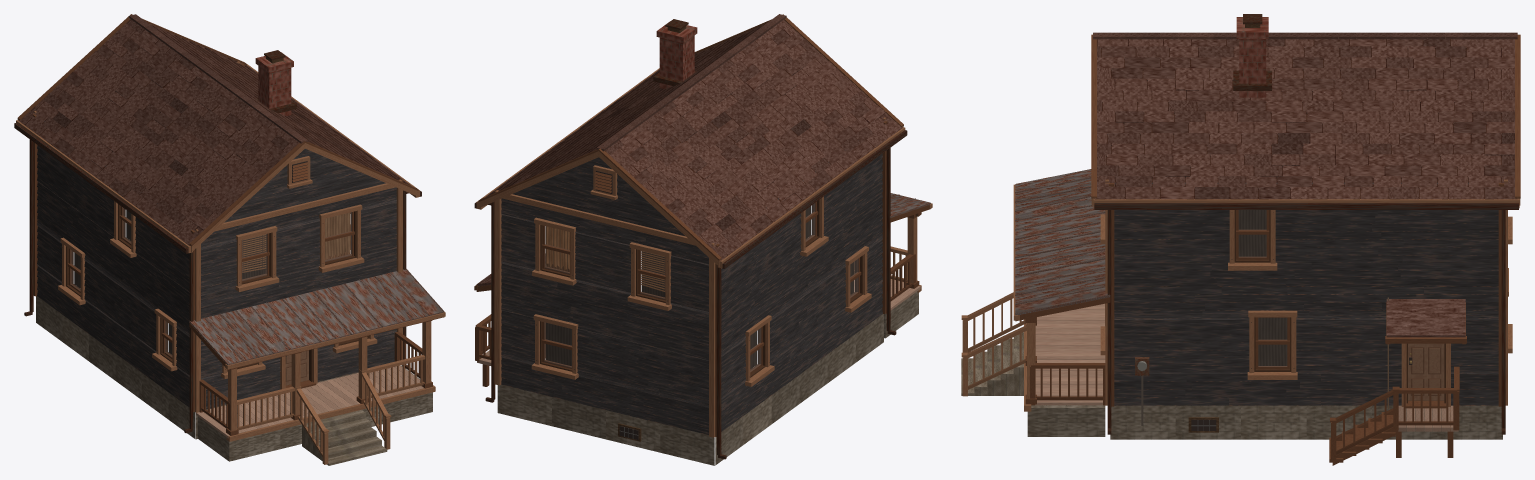
The model's file is weathered-reservoir-house.glb.
3 renders of one model, left to right at view 1: azimuth 30°, elevation 25°; view 2: azimuth 150°, elevation 25°; view 3: azimuth 270°, elevation 25°, orthographic. The views are drawn at different scales.
Visible parts, largest first — view 1: Batched siding, shingles, masonry and trim, Inset glass panes, Recessed blinds and shades, Recessed curtain fabric; view 2: Batched siding, shingles, masonry and trim, Inset glass panes, Recessed blinds and shades; view 3: Batched siding, shingles, masonry and trim, Recessed blinds and shades, Inset glass panes, Fasteners, fixtures and service hardware.
Part boxes in pixels (x1=…): Batched siding, shingles, masonry and trim: x1=14, y1=14, x2=445, y2=465; Inset glass panes: x1=70, y1=208, x2=351, y2=356; Recessed blinds and shades: x1=74, y1=210, x2=266, y2=354; Recessed curtain fabric: x1=325, y1=212, x2=350, y2=259; Batched siding, shingles, masonry and trim: x1=474, y1=14, x2=932, y2=465; Inset glass panes: x1=544, y1=203, x2=858, y2=371; Recessed blinds and shades: x1=546, y1=206, x2=853, y2=368; Batched siding, shingles, masonry and trim: x1=961, y1=14, x2=1520, y2=465; Recessed blinds and shades: x1=1238, y1=210, x2=1287, y2=365; Inset glass panes: x1=1239, y1=210, x2=1286, y2=366; Fasteners, fixtures and service hardware: x1=1021, y1=176, x2=1412, y2=431.
Bounding box in the file's own units: 8.11 × 9.34 × 12.25.
Materials: 7 (3 with a texture image).
